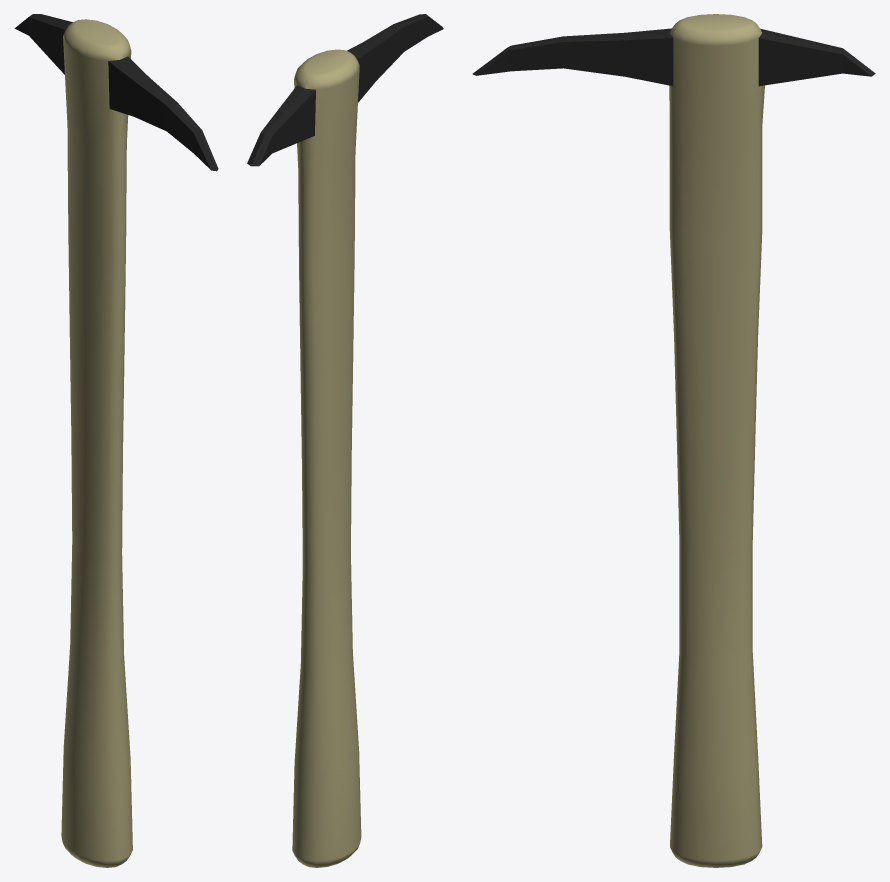
The model's file is Big_PickAxe.fbx.
The picture shows the model from 3 angles, left to right: view 1: azimuth 30°, elevation 25°; view 2: azimuth 150°, elevation 25°; view 3: azimuth 270°, elevation 25°; orthographic projection. The views are drawn at different scales.
Parts seen in each view (by area): view 1: pCylinder1; view 2: pCylinder1; view 3: pCylinder1.
Part boxes in pixels (x1=…): pCylinder1: x1=14, y1=14, x2=218, y2=867; pCylinder1: x1=247, y1=14, x2=443, y2=867; pCylinder1: x1=472, y1=14, x2=875, y2=867.
Size of the model in its own units: 0.1416 by 2 by 0.8732.
